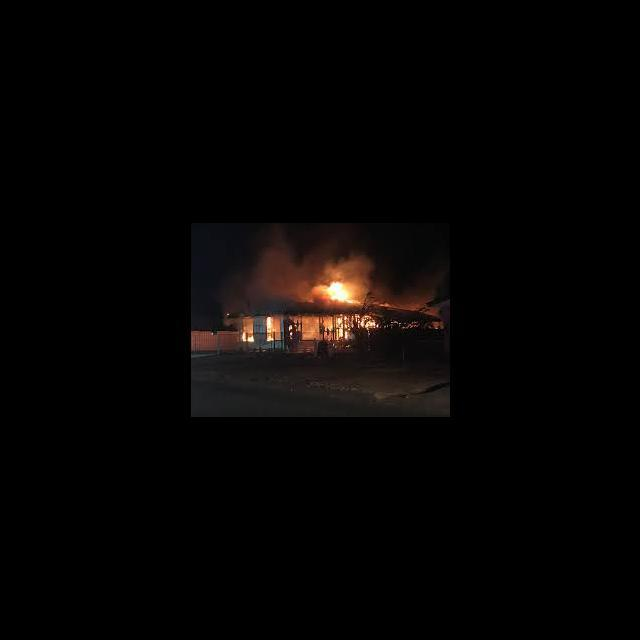Fire: (327, 279, 351, 302), (334, 314, 351, 340), (358, 314, 376, 328), (265, 316, 274, 342), (240, 328, 254, 342)
Smoke: (223, 223, 316, 304), (316, 227, 378, 278)
